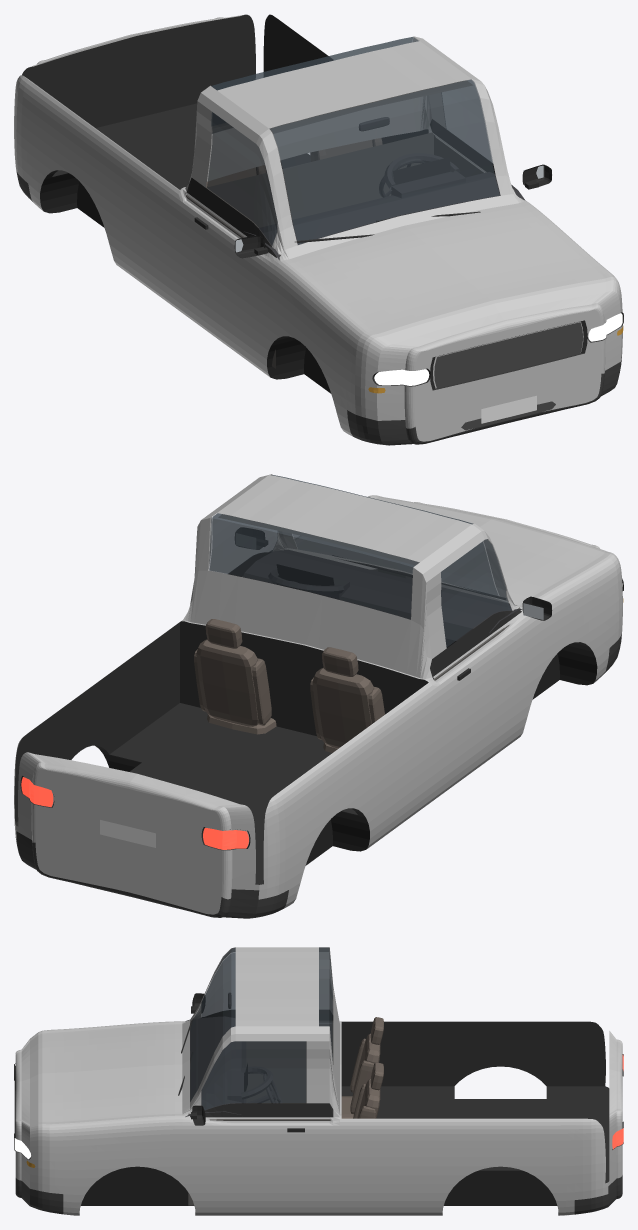
Rendered from car_sidewinder.fbx.
3 views of the same model, one above another, from view 1: azimuth 30°, elevation 25°; view 2: azimuth 150°, elevation 25°; view 3: azimuth 270°, elevation 25° (orthographic). The views are drawn at different scales.
Visible parts, largest first — view 1: sidewinder__glass, sidewinder__hood, sidewinder__bed, sidewinder__quarterR, sidewinder__roof, sidewinder__fenderFR, sidewinder__fascia, sidewinder__cabin, sidewinder__doorR, sidewinder__trunk, sidewinder__interior, sidewinder__pillars (+12 smaller); view 2: sidewinder__bed, sidewinder__quarterR, sidewinder__rearPanel, sidewinder__glass, sidewinder__trunk, sidewinder__seats, sidewinder__roof, sidewinder__hood, sidewinder__doorR, sidewinder__fenderFR, sidewinder__interior, sidewinder__pillars (+10 smaller); view 3: sidewinder__quarterL, sidewinder__bed, sidewinder__hood, sidewinder__doorL, sidewinder__fenderFL, sidewinder__glass, sidewinder__roof, sidewinder__wells, sidewinder__interior, sidewinder__pillars, sidewinder__cabin, sidewinder__seats (+6 smaller).
Part boxes in pixels (x1=…): sidewinder__glass: x1=207, y1=37, x2=499, y2=245; sidewinder__hood: x1=281, y1=201, x2=613, y2=355; sidewinder__bed: x1=22, y1=14, x2=428, y2=189; sidewinder__quarterR: x1=14, y1=75, x2=190, y2=317; sidewinder__roof: x1=208, y1=41, x2=480, y2=135; sidewinder__fenderFR: x1=262, y1=254, x2=410, y2=436; sidewinder__fascia: x1=404, y1=305, x2=605, y2=441; sidewinder__cabin: x1=185, y1=80, x2=485, y2=368; sidewinder__doorR: x1=182, y1=196, x2=271, y2=376; sidewinder__trunk: x1=183, y1=96, x2=526, y2=261; sidewinder__interior: x1=243, y1=117, x2=525, y2=260; sidewinder__pillars: x1=189, y1=36, x2=517, y2=254; sidewinder__bed: x1=14, y1=621, x2=428, y2=884; sidewinder__quarterR: x1=225, y1=674, x2=446, y2=908; sidewinder__rearPanel: x1=31, y1=763, x2=232, y2=914; sidewinder__glass: x1=209, y1=475, x2=511, y2=647; sidewinder__trunk: x1=183, y1=548, x2=522, y2=680; sidewinder__seats: x1=194, y1=619, x2=384, y2=752; sidewinder__roof: x1=208, y1=475, x2=481, y2=569; sidewinder__hood: x1=294, y1=495, x2=613, y2=606; sidewinder__doorR: x1=437, y1=615, x2=526, y2=795; sidewinder__fenderFR: x1=517, y1=554, x2=622, y2=736; sidewinder__interior: x1=243, y1=550, x2=522, y2=647; sidewinder__pillars: x1=190, y1=474, x2=517, y2=667; sidewinder__quarterL: x1=326, y1=1112, x2=616, y2=1215; sidewinder__bed: x1=341, y1=1021, x2=609, y2=1183; sidewinder__hood: x1=15, y1=1021, x2=182, y2=1127; sidewinder__doorL: x1=197, y1=1117, x2=326, y2=1215; sidewinder__fenderFL: x1=21, y1=1117, x2=197, y2=1215; sidewinder__glass: x1=190, y1=947, x2=332, y2=1109; sidewinder__roof: x1=235, y1=947, x2=318, y2=1033; sidewinder__wells: x1=79, y1=1166, x2=558, y2=1215; sidewinder__interior: x1=185, y1=992, x2=273, y2=1116; sidewinder__pillars: x1=190, y1=947, x2=333, y2=1113; sidewinder__cabin: x1=188, y1=1020, x2=333, y2=1205; sidewinder__seats: x1=306, y1=1017, x2=383, y2=1118.
Bounding box in the file's own units: 2.43 × 1.71 × 5.13.
